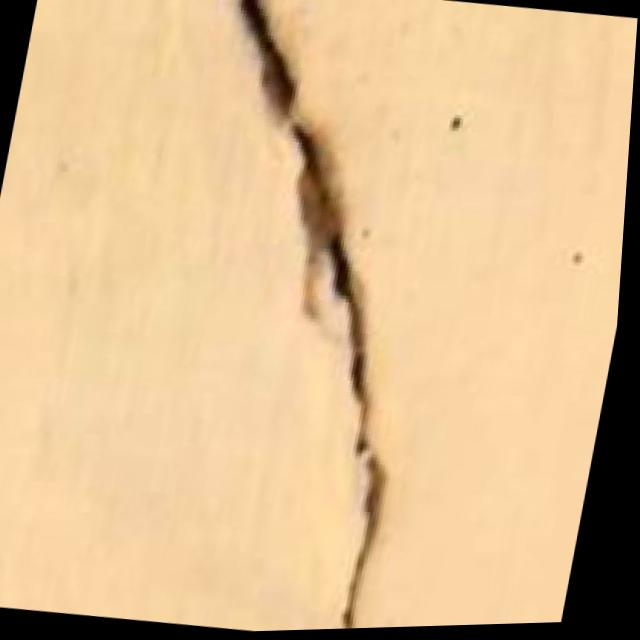Crack: (80, 0, 492, 637)
